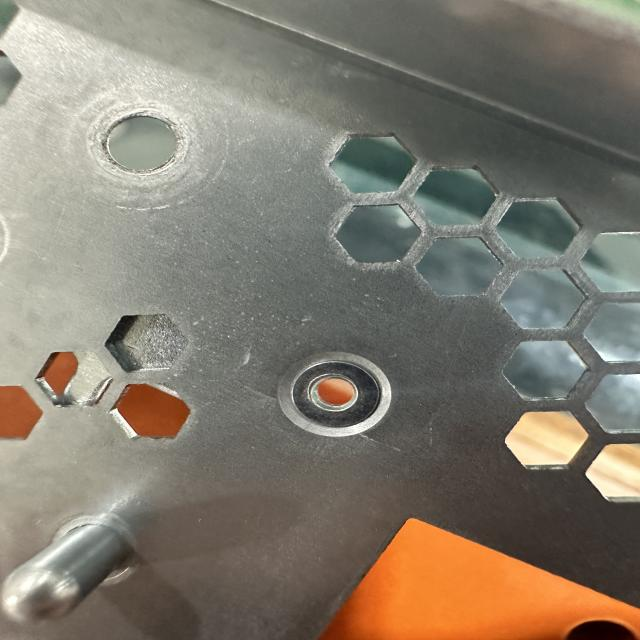Missing screw: (266, 345, 398, 443)
